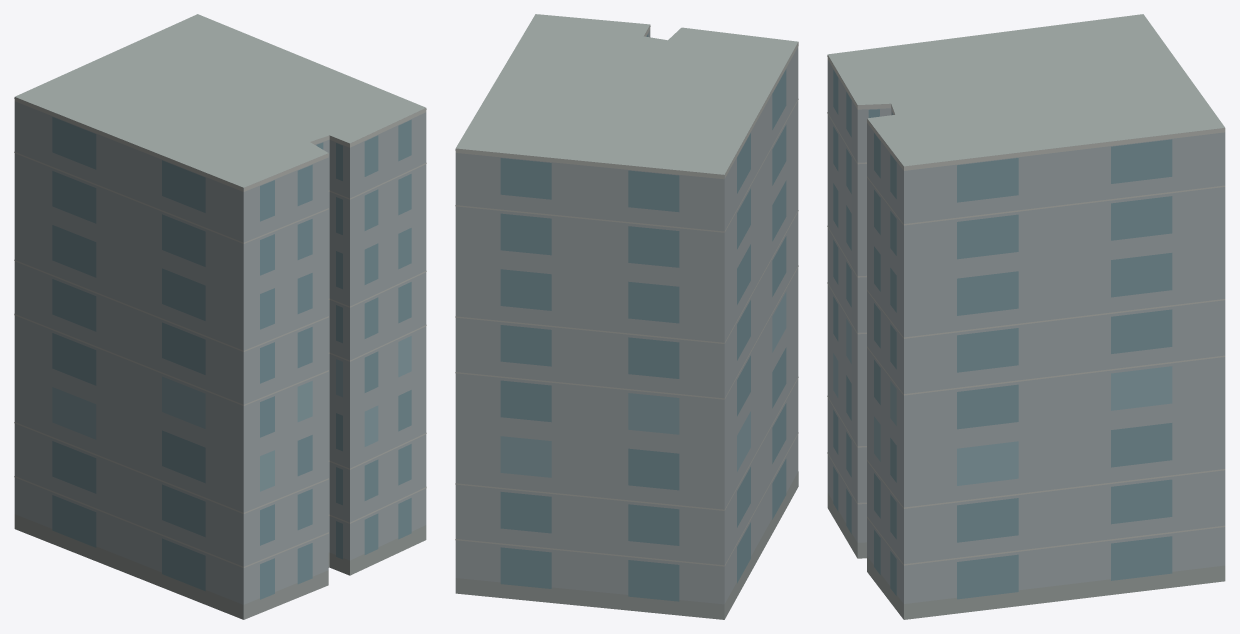
Rendered from survey-upis-32786390.glb.
3 views of the same model, side by side, from view 1: azimuth 30°, elevation 25°; view 2: azimuth 150°, elevation 25°; view 3: azimuth 270°, elevation 25° (orthographic). The views are drawn at different scales.
Visible parts, largest first — view 1: survey-upis-32786390.tmp; view 2: survey-upis-32786390.tmp; view 3: survey-upis-32786390.tmp.
Boxes of the visible parts, x1,y1,x2,y2 form: survey-upis-32786390.tmp: [14, 14, 426, 619]; survey-upis-32786390.tmp: [455, 14, 798, 619]; survey-upis-32786390.tmp: [827, 14, 1225, 619].
Size of the model in its own units: 17.58 by 24.35 by 19.38.
